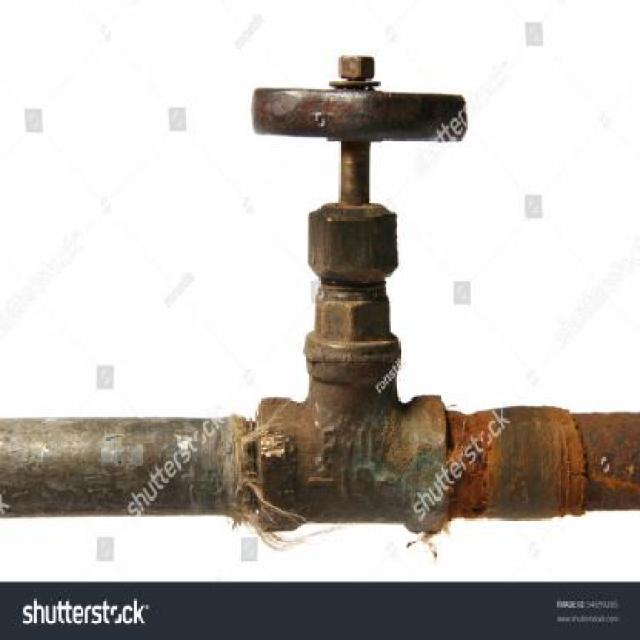corrosion: (0, 48, 640, 529)
